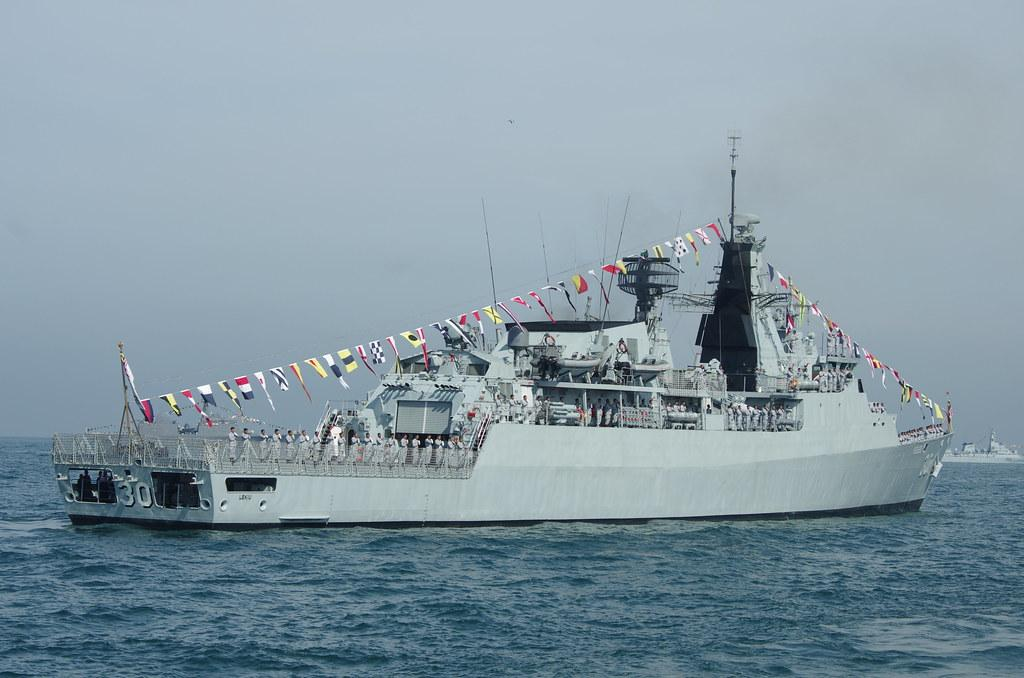Warship: (42, 123, 958, 536)
